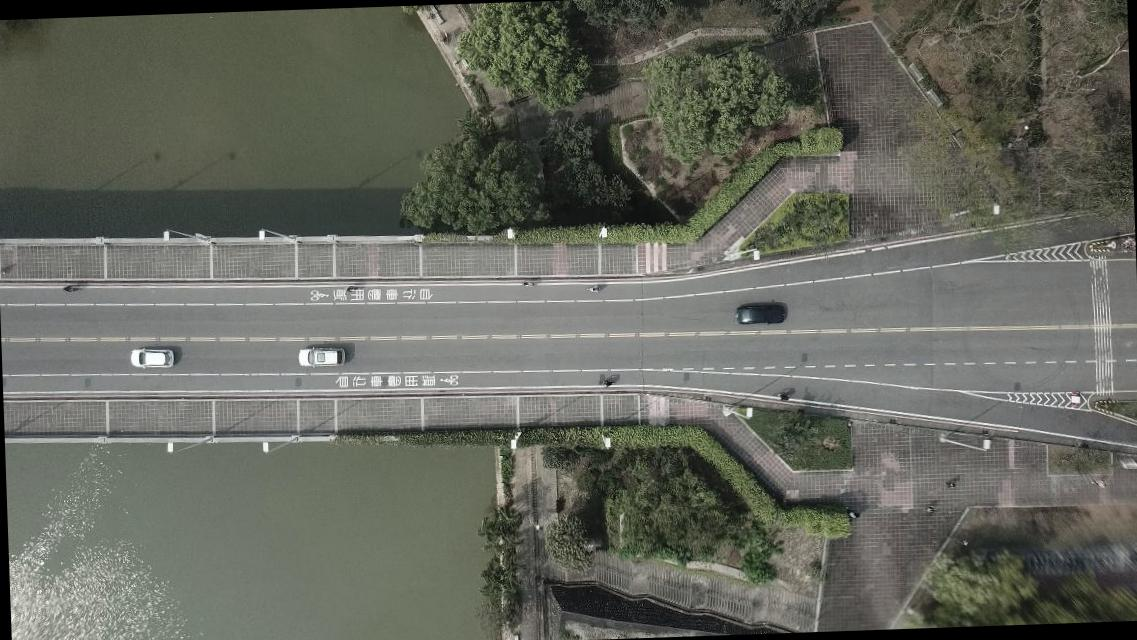vehicle: (734, 302, 786, 326), (297, 344, 344, 368), (130, 346, 174, 370)
